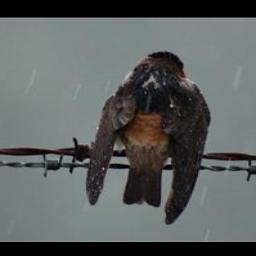Swallow: (84, 50, 212, 226)
